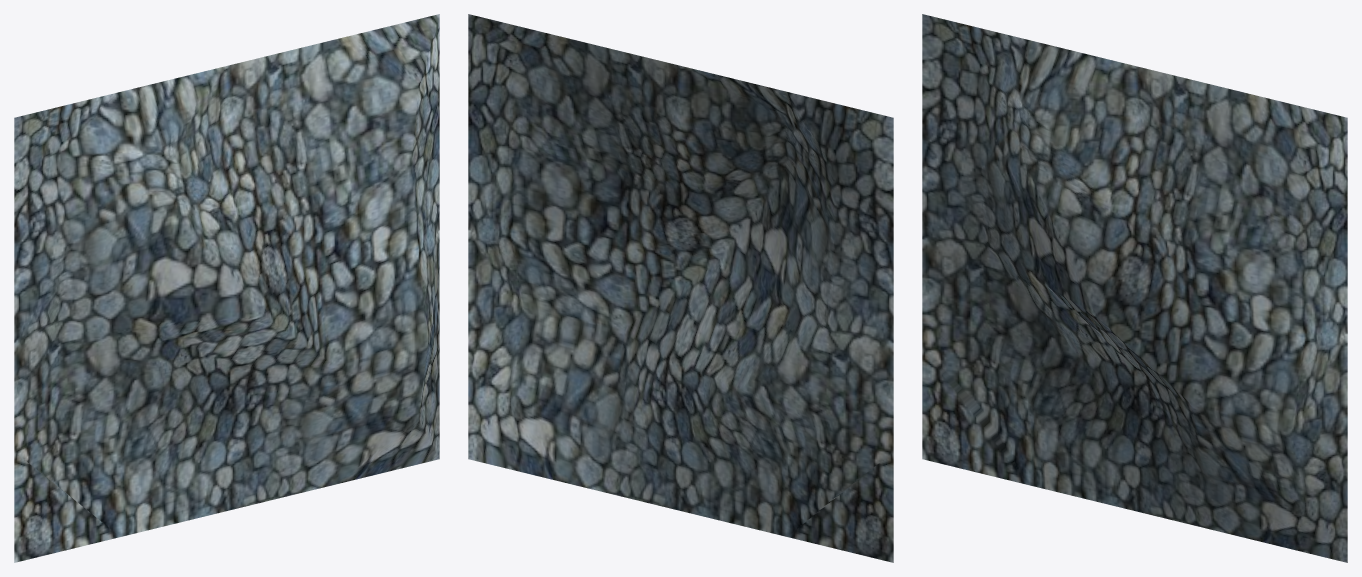
The model's file is ground_steep_2.obj.
3 views of the same model, side by side, from view 1: azimuth 30°, elevation 25°; view 2: azimuth 150°, elevation 25°; view 3: azimuth 330°, elevation 25° (orthographic).
Size of the model in its own units: 2 by 2 by 0.3683.
